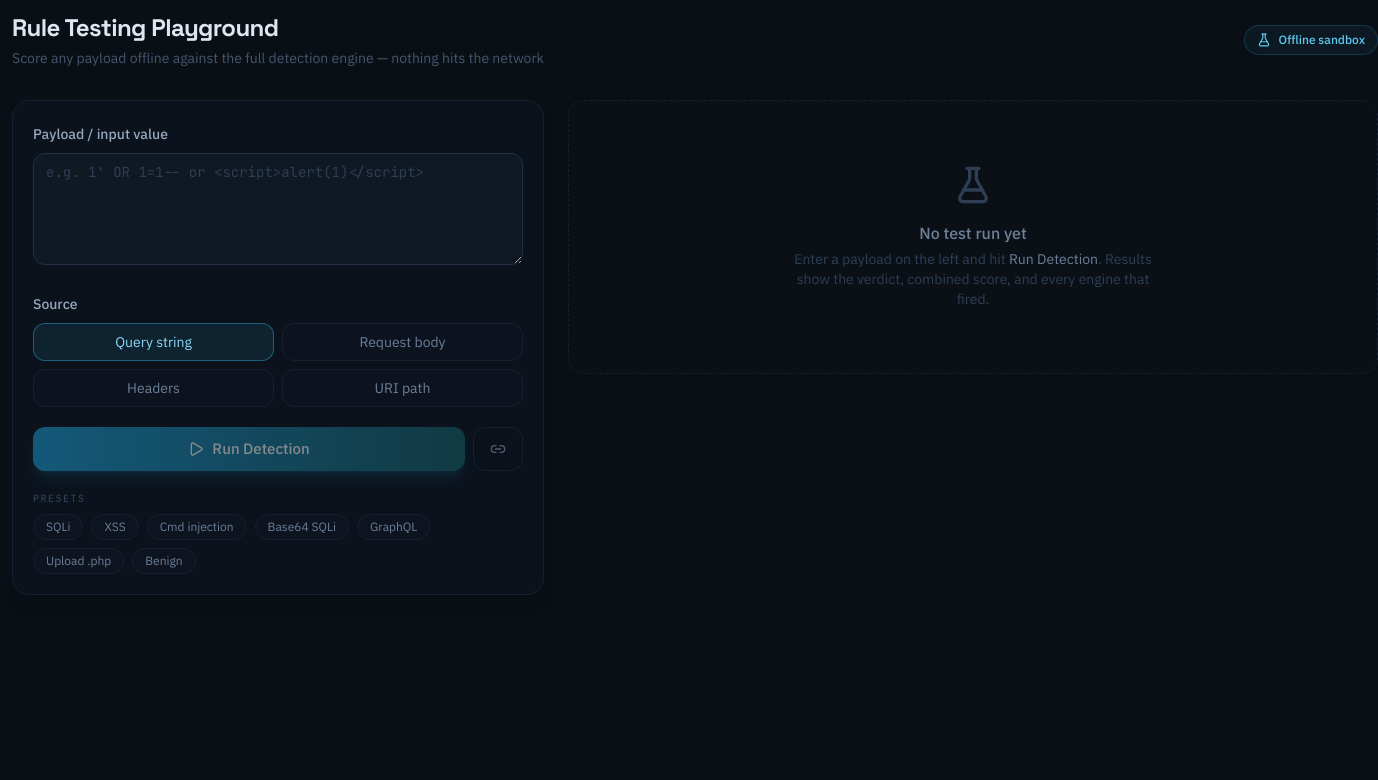
Test case: PlaygroundPage smoke test › runs a payload and renders the detection verdict
In the text box with placeholder "e.g. 1' OR 1=1-- or <script>alert(1)</script>": (278, 209) 33,153 -> 523,265, type "id=1' OR 1=1--"
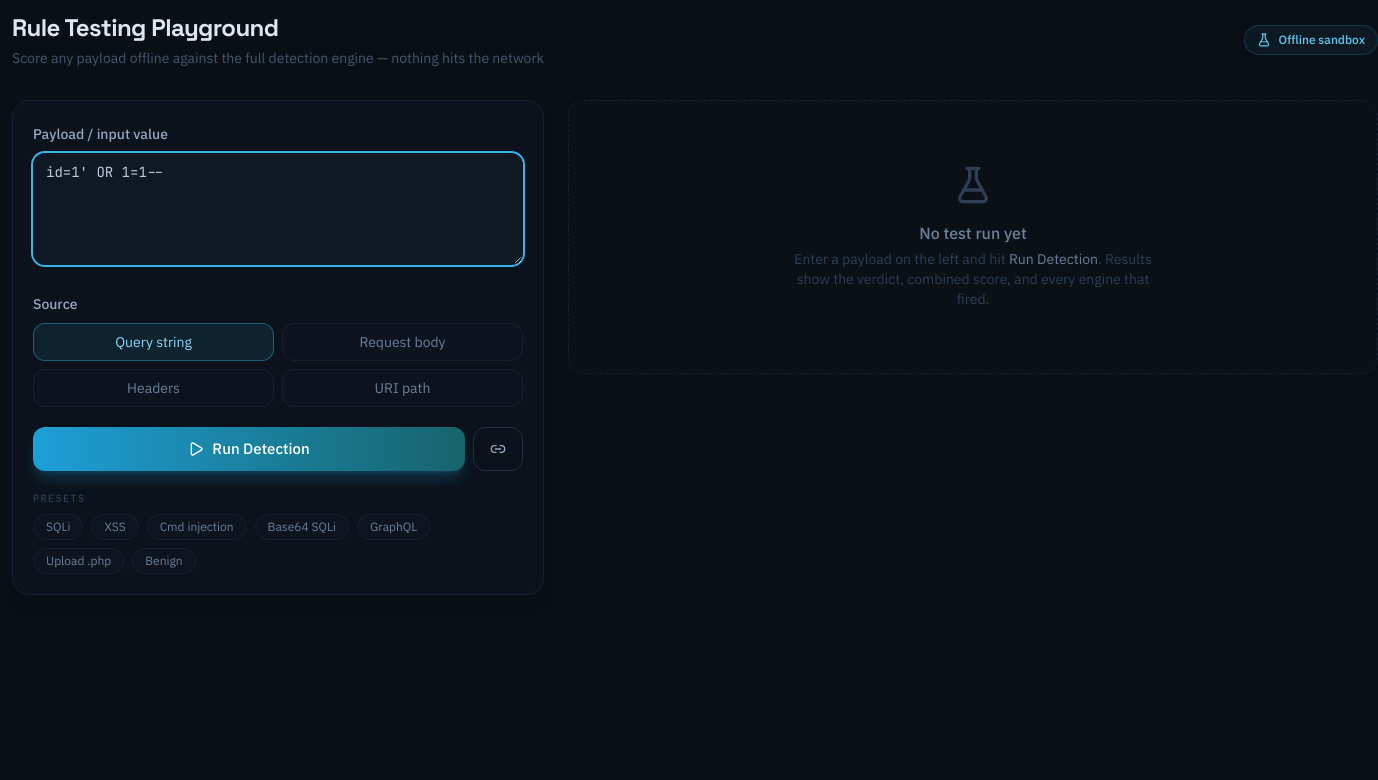
Click the button "Run Detection": (249, 449) 33,427 -> 465,471
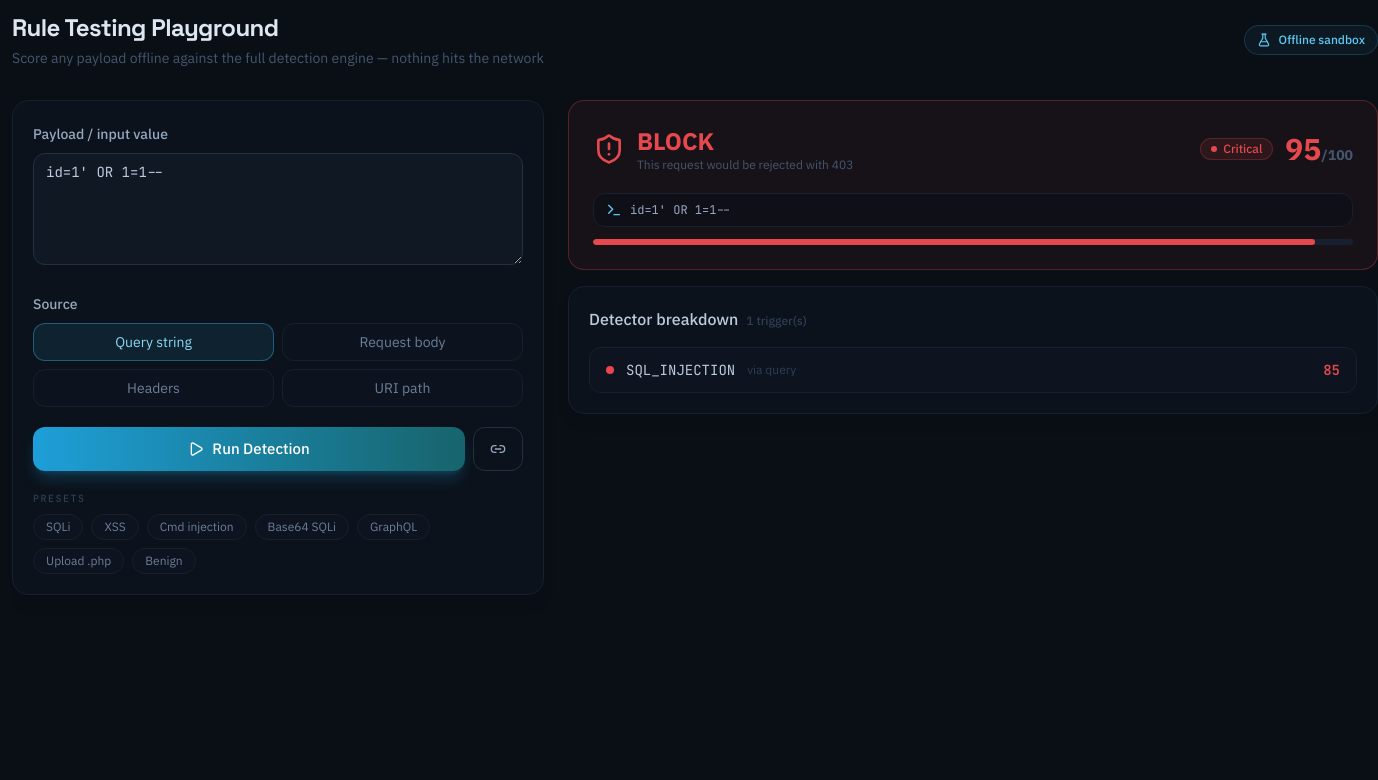
Result: the text "BLOCK" is shown at 637,125 -> 714,157
Result: the text "95" is shown at 1285,129 -> 1321,168
Result: the text "SQL_INJECTION" is shown at 626,360 -> 735,380
